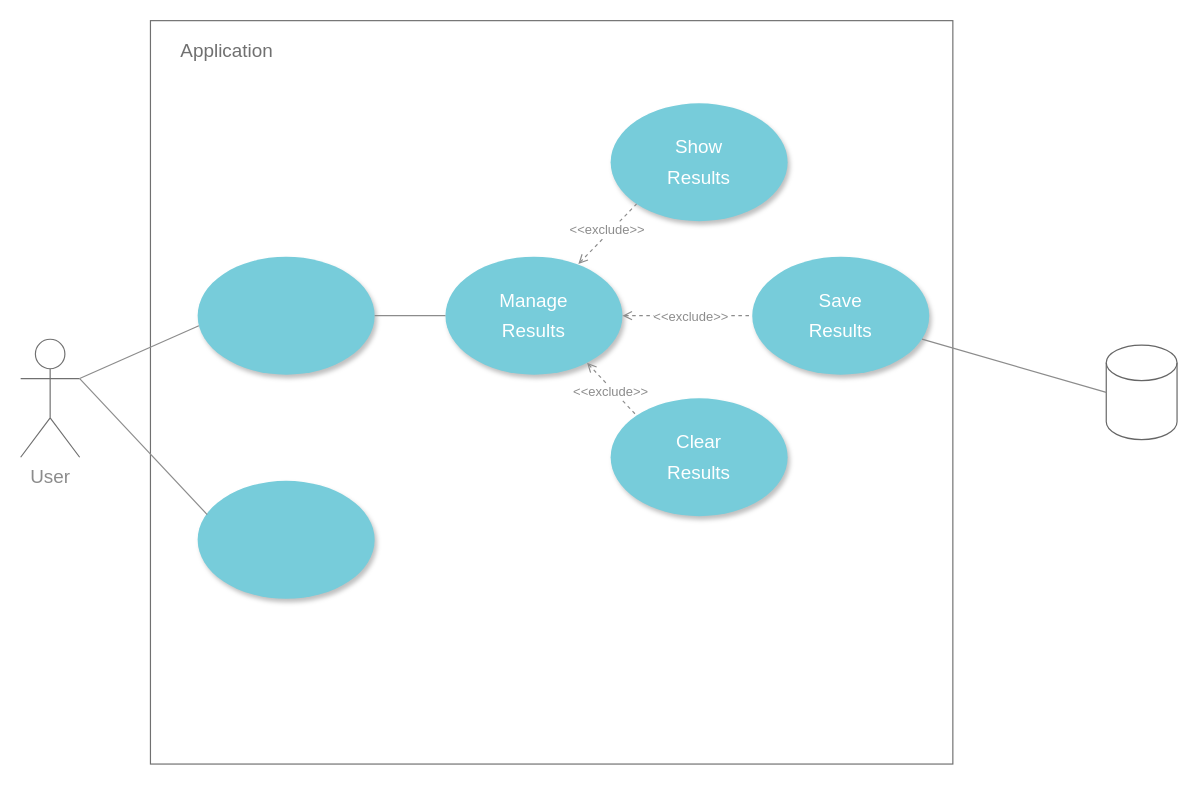
Image size: 1198x785. Some labels were removed from this diagram. Each missing label, with the centre of its shape:
"DB" goes at [1141,392].
"Start Processing" goes at [286,316].
"Stop Processing" goes at [286,541].
